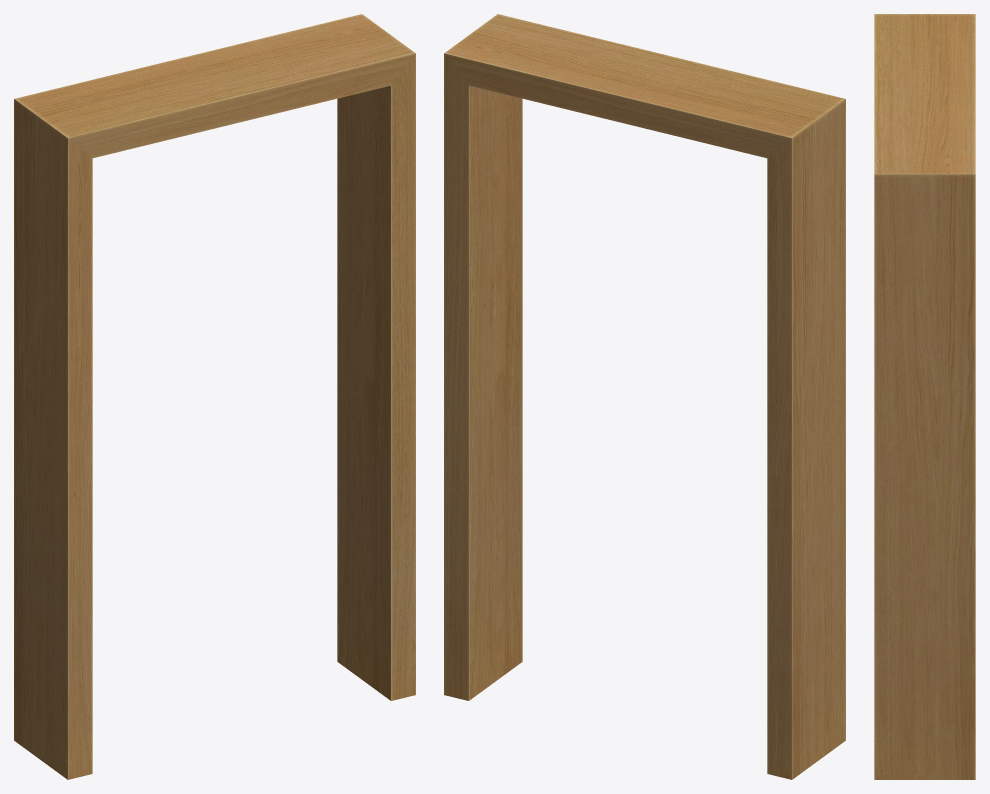
The model's file is door frame single.FBX.
3 views of the same model, side by side, from view 1: azimuth 30°, elevation 25°; view 2: azimuth 150°, elevation 25°; view 3: azimuth 270°, elevation 25° (orthographic). The views are drawn at different scales.
Parts seen in each view (by area): view 1: door frame single; view 2: door frame single; view 3: door frame single.
Boxes of the visible parts, <box> form: door frame single: <box>14,14,415,779</box>; door frame single: <box>444,14,845,779</box>; door frame single: <box>874,14,975,779</box>.
Bounding box in the file's own units: 48.08 × 12.86 × 84.74.
